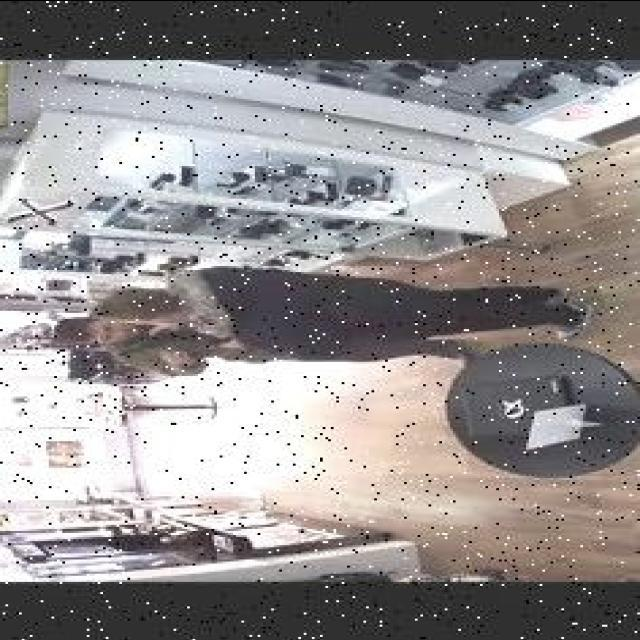Shoplifting: (33, 269, 449, 444)
